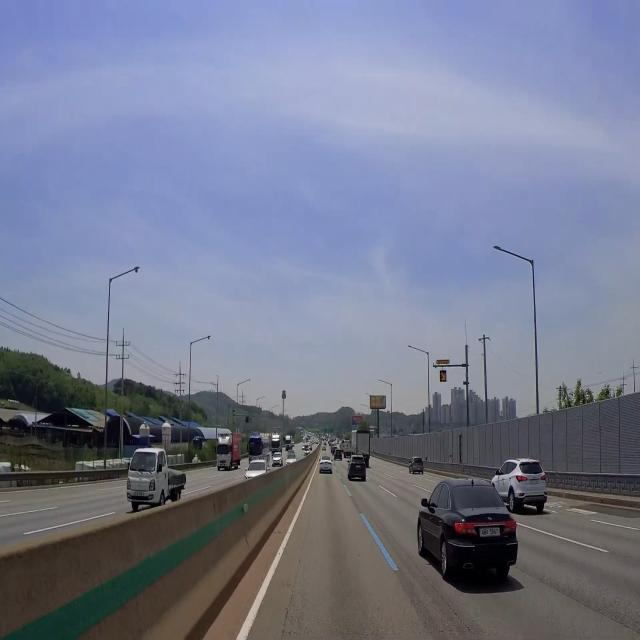car: (478, 526, 503, 542), (130, 489, 148, 499), (529, 477, 542, 489), (323, 465, 330, 471), (355, 464, 362, 469)
